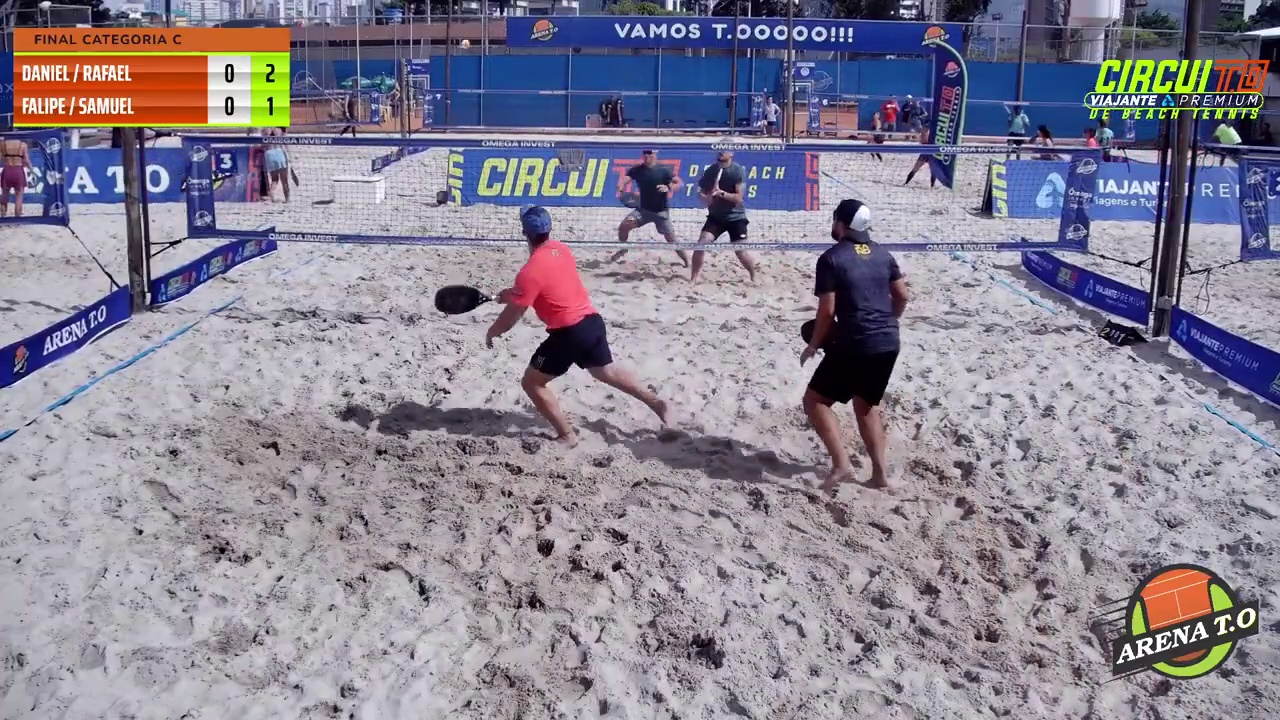court_line: (534, 0, 693, 532), (647, 0, 800, 470)
